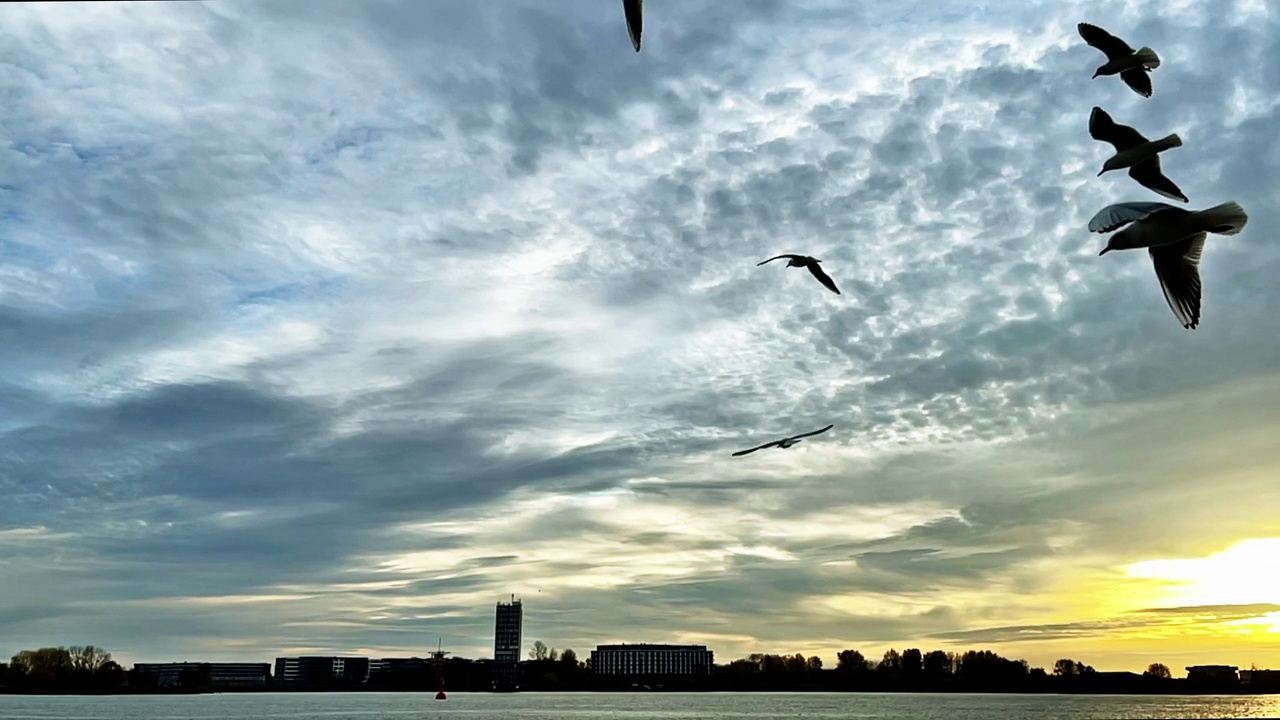bird: (1086, 201, 1248, 329), (1087, 104, 1191, 204), (1073, 21, 1158, 97), (757, 253, 842, 295), (732, 425, 833, 456)
